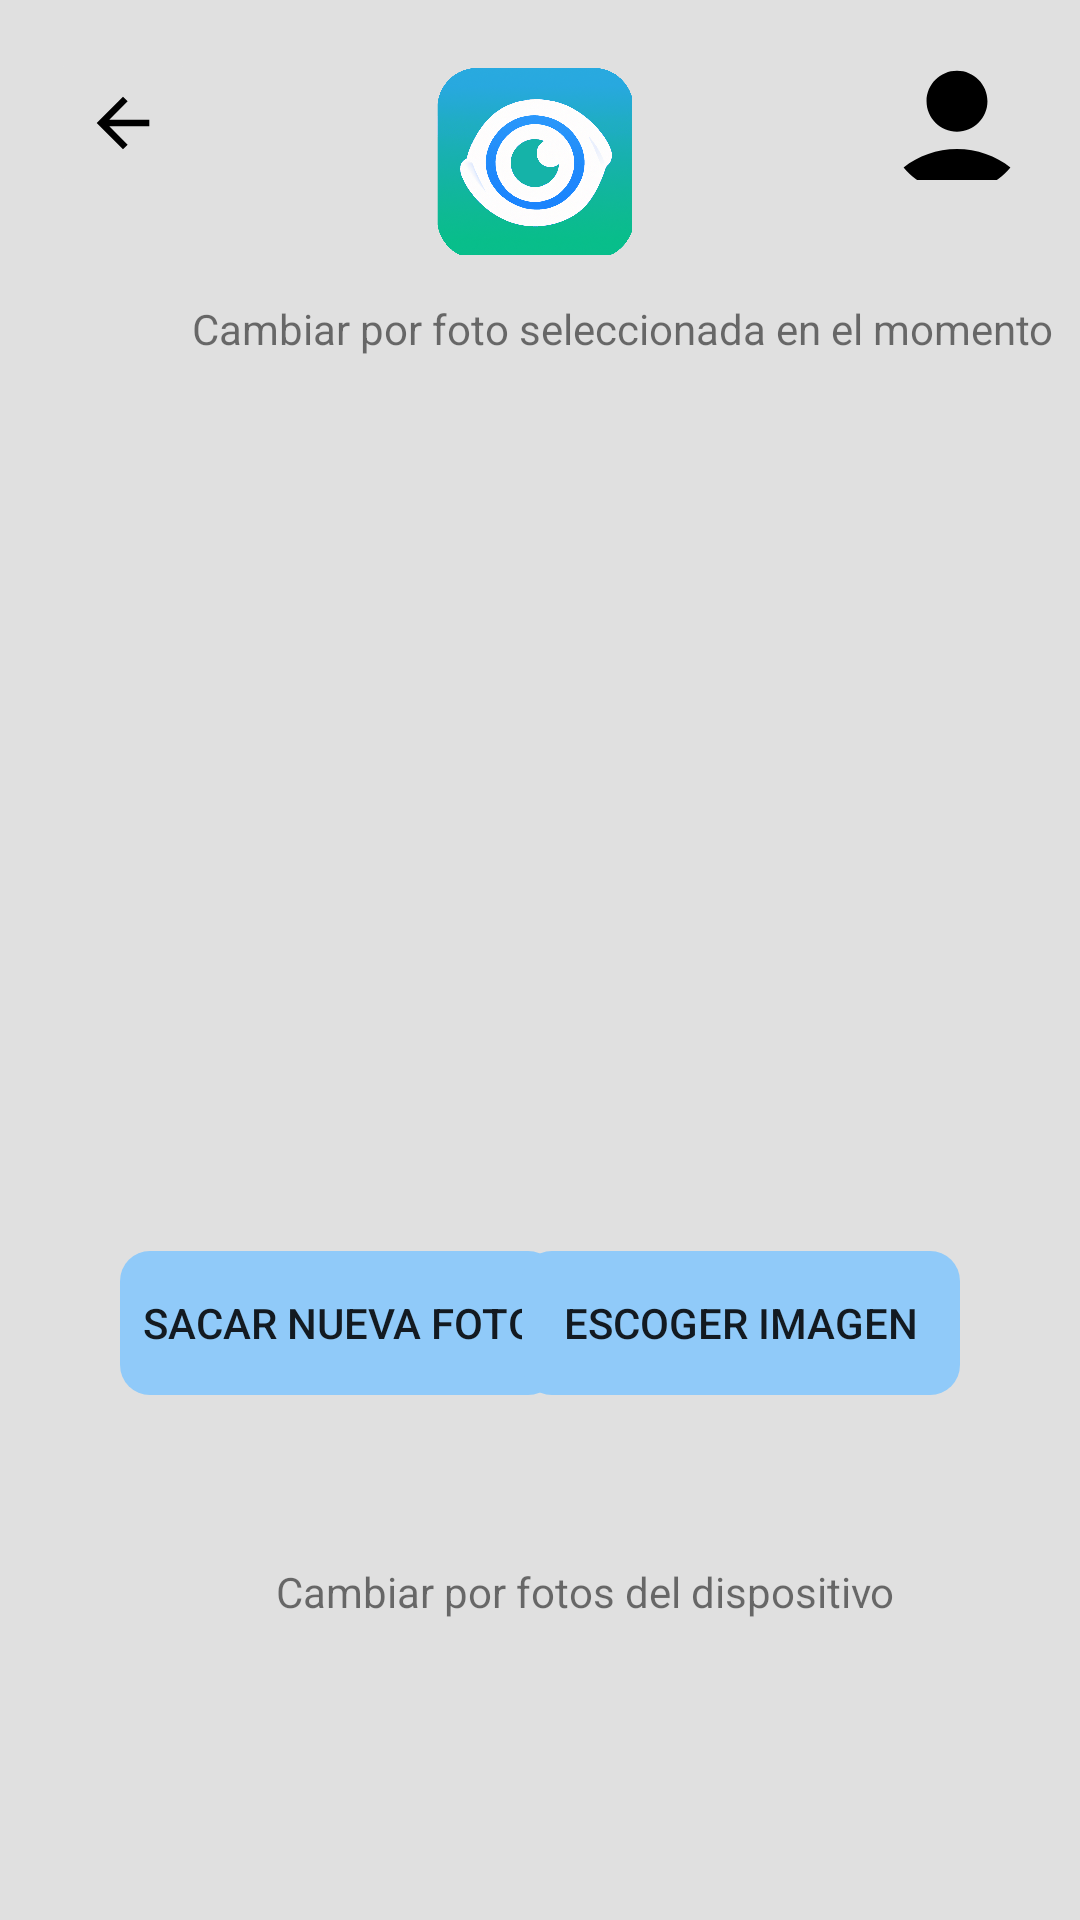

Icons on this 1080×1920 Android screen, each with its box as (x1, y1, x2, y2):
back: (97, 97, 150, 149)
profile: (903, 70, 1011, 180)
